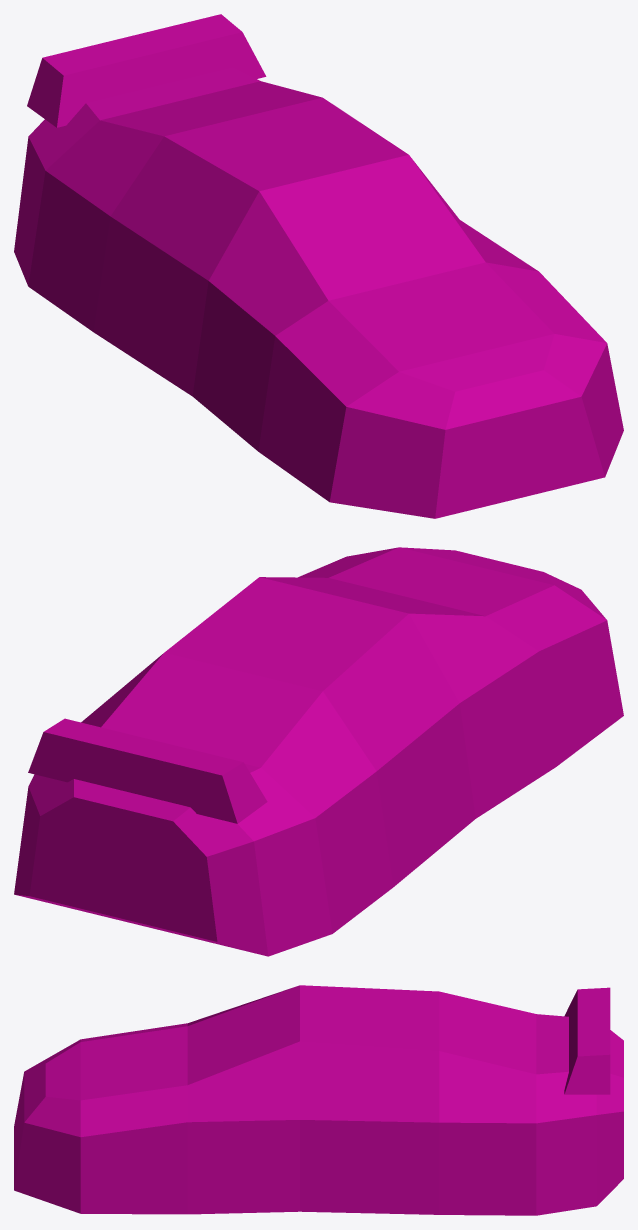
Rendered from SM_Veh_Touring_01_Preset_02_Collision.fbx.
3 views of the same model, one above another, from view 1: azimuth 30°, elevation 25°; view 2: azimuth 150°, elevation 25°; view 3: azimuth 270°, elevation 25° (orthographic). The views are drawn at different scales.
Parts seen in each view (by area): view 1: SM_Veh_Touring_01_Preset_02_Collision; view 2: SM_Veh_Touring_01_Preset_02_Collision; view 3: SM_Veh_Touring_01_Preset_02_Collision.
Boxes of the visible parts, box(x1,y1,x2,y2) form: SM_Veh_Touring_01_Preset_02_Collision: box(14, 14, 623, 518); SM_Veh_Touring_01_Preset_02_Collision: box(14, 547, 623, 956); SM_Veh_Touring_01_Preset_02_Collision: box(14, 985, 623, 1215).
Size of the model in its own units: 233 by 138 by 525.
